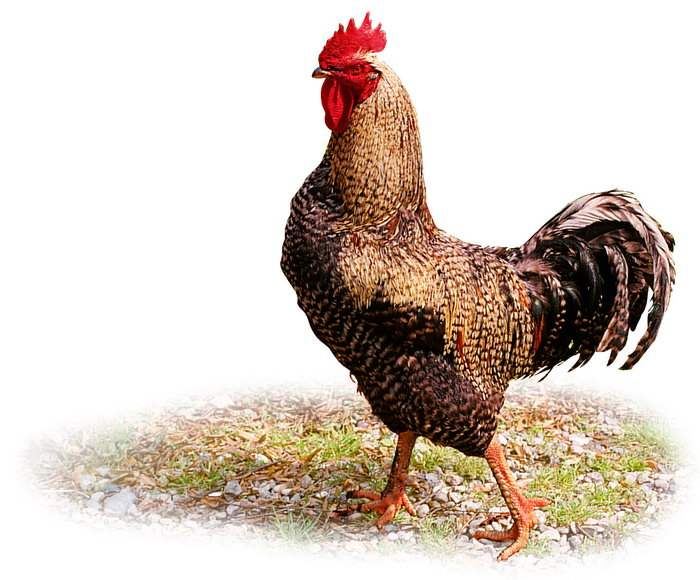chicken: (276, 13, 677, 558)
